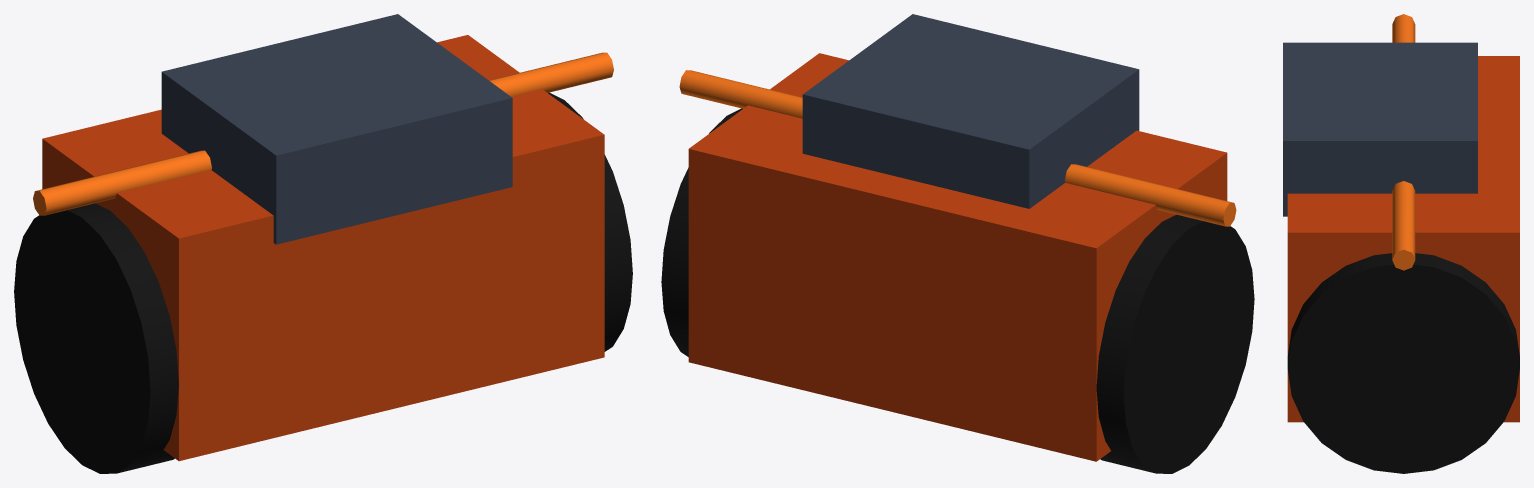
The picture shows the model from 3 angles, left to right: view 1: azimuth 30°, elevation 25°; view 2: azimuth 150°, elevation 25°; view 3: azimuth 270°, elevation 25°; orthographic projection. The views are drawn at different scales.
Parts seen in each view (by area): view 1: body, grill, wheel_front, frame, wheel_back; view 2: body, grill, wheel_front, frame, wheel_back; view 3: wheel_back, grill, body, frame.
Part boxes in pixels (x1=…): body: x1=42, y1=35, x2=604, y2=461; grill: x1=161, y1=14, x2=512, y2=244; wheel_front: x1=14, y1=203, x2=178, y2=473; frame: x1=33, y1=52, x2=613, y2=215; wheel_back: x1=548, y1=92, x2=632, y2=351; body: x1=688, y1=53, x2=1227, y2=461; grill: x1=802, y1=14, x2=1139, y2=208; wheel_front: x1=1096, y1=214, x2=1254, y2=473; frame: x1=679, y1=70, x2=1236, y2=226; wheel_back: x1=661, y1=108, x2=742, y2=356; wheel_back: x1=1287, y1=253, x2=1519, y2=473; grill: x1=1283, y1=42, x2=1477, y2=216; body: x1=1287, y1=56, x2=1519, y2=422; frame: x1=1392, y1=14, x2=1415, y2=270.
Size of the model in its own units: 1.2 by 0.67 by 0.51.
